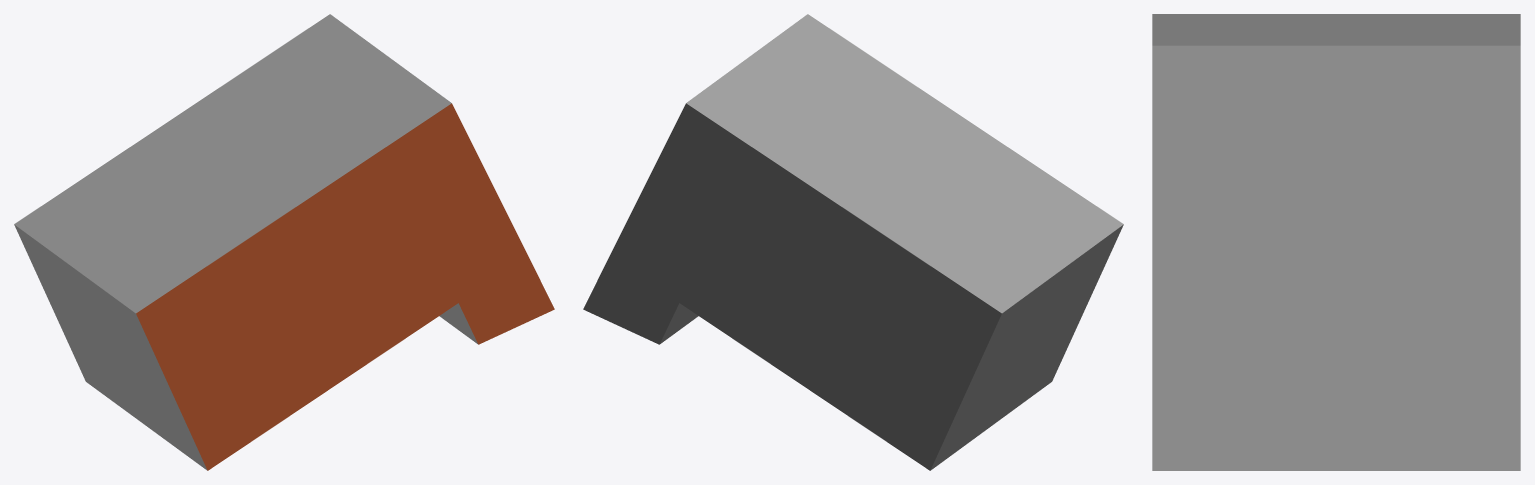
File: construction_1570_assumed_A_Casa_h6m.obj
3 renders of one model, left to right at view 1: azimuth 30°, elevation 25°; view 2: azimuth 150°, elevation 25°; view 3: azimuth 270°, elevation 25°, orthographic. The views are drawn at different scales.
Parts seen in each view (by area): view 1: construction_1570_assumed_A_Casa; view 2: construction_1570_assumed_A_Casa; view 3: construction_1570_assumed_A_Casa.
Boxes of the visible parts, x1,y1,x2,y2 form: construction_1570_assumed_A_Casa: [14, 14, 554, 470]; construction_1570_assumed_A_Casa: [583, 14, 1123, 470]; construction_1570_assumed_A_Casa: [1152, 14, 1520, 470].
Size of the model in its own units: 11.91 by 8.37 by 6.
